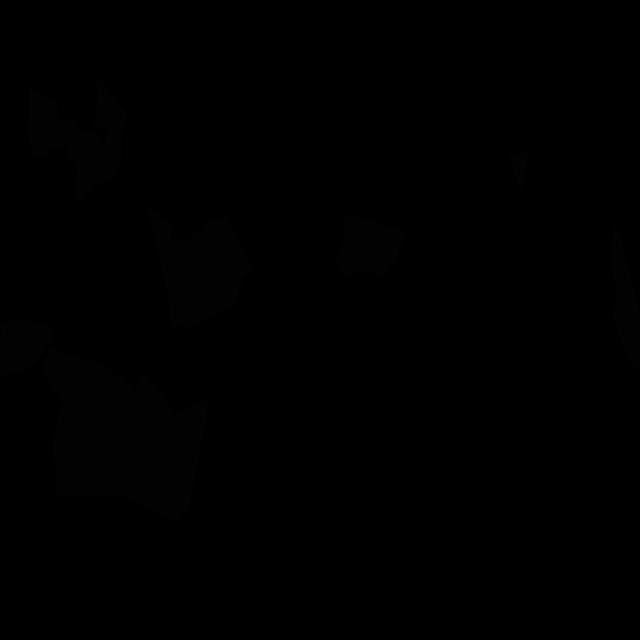cardboard: (41, 348, 210, 522), (146, 206, 254, 328), (28, 86, 94, 201), (334, 214, 406, 280), (610, 221, 640, 369), (0, 317, 53, 378), (73, 128, 121, 186), (94, 81, 126, 157), (509, 148, 530, 193)
